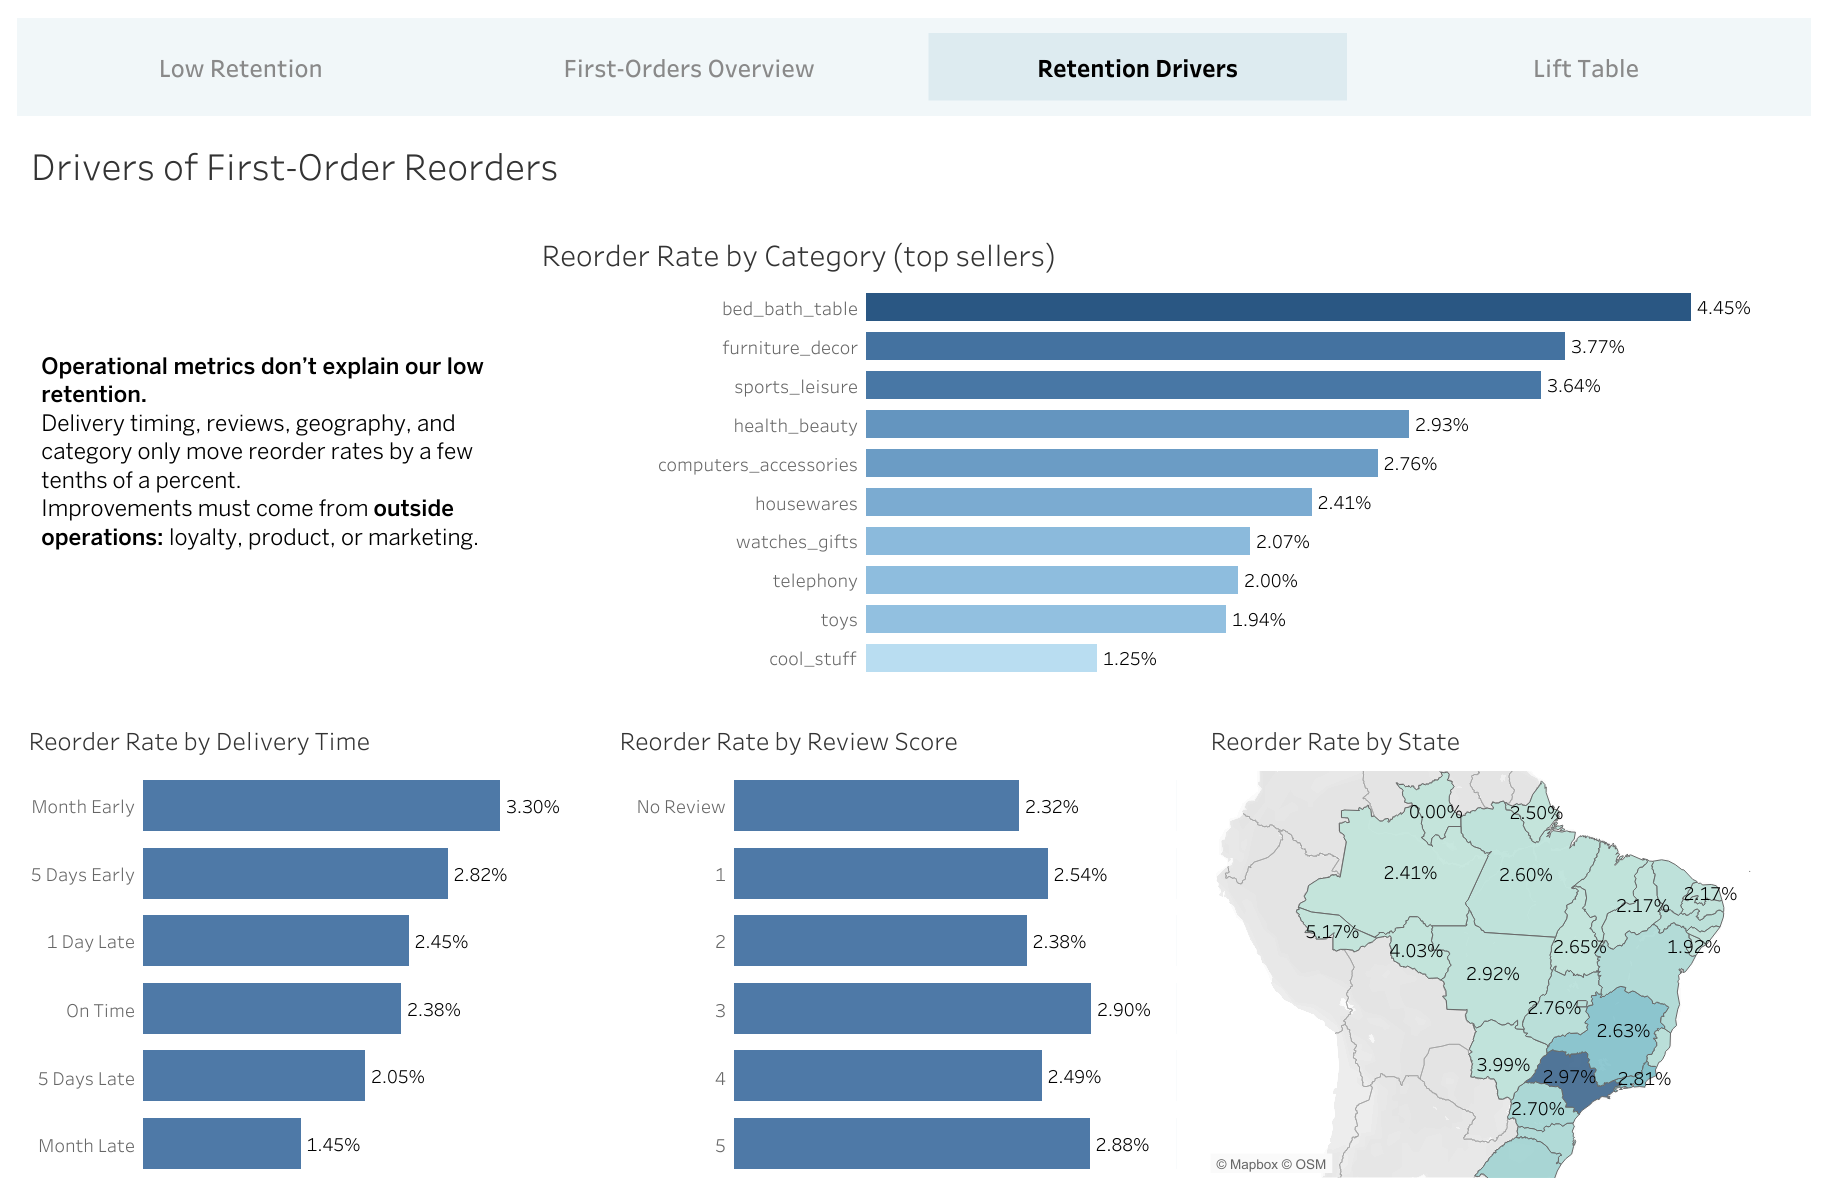

Layout of this report page (visuals, bound fields, positions):
{"tool":"tableau","page":{"name":"Drivers of First-Order Reorders","canvas":[1000,1000],"units":"permille","ordinal":0},"visuals":[{"type":"dashboard-object","box":[9.3,15,246.3,82]},{"type":"dashboard-object","box":[255.6,15,246.3,82]},{"type":"dashboard-object","box":[501.9,15,245.6,82]},{"type":"dashboard-object","box":[747.5,15,245.6,82]},{"type":"title","box":[15,98.9,595.8,75.6]},{"type":"text","box":[8.3,182.2,213.8,386.7]},{"type":"worksheet","title":"Reorder Rate by Category (top sellers)","mark":"Automatic","rows":["first_order_category"],"cols":["Calculation_690176653128122368"],"box":[222.2,182.2,767,386.7]},{"type":"worksheet","title":"Reorder Rate by Delivery Time","mark":"Automatic","rows":["On Time vs Late Delivery (copy)_690176653248196612"],"cols":["Calculation_690176653128122368"],"box":[4.2,582.2,338,411.1]},{"type":"worksheet","title":"Reorder Rate by Review Score","mark":"Bar","rows":["first_order_review_score"],"cols":["Calculation_690176653128122368"],"box":[342.2,582.2,325.6,411.1]},{"type":"worksheet","title":"Reorder Rate by State","mark":"Multipolygon","box":[667.8,582.2,325.6,411.1]}]}

Visuals, with their boxes on the dashboard's canvas, which has no fixed pixel size, in thousandths of its width and height (x1, y1, x2, y2). These are canvas units, not pixel positions in the 1821x1199 screenshot, which may show the page scaled, cropped or inside an application window:
dashboard-object: left=9, top=15, right=256, bottom=97
dashboard-object: left=256, top=15, right=502, bottom=97
dashboard-object: left=502, top=15, right=748, bottom=97
dashboard-object: left=748, top=15, right=993, bottom=97
title: left=15, top=99, right=611, bottom=174
text: left=8, top=182, right=222, bottom=569
"Reorder Rate by Category (top sellers)" worksheet: left=222, top=182, right=989, bottom=569
"Reorder Rate by Delivery Time" worksheet: left=4, top=582, right=342, bottom=993
"Reorder Rate by Review Score" worksheet (Bar marks): left=342, top=582, right=668, bottom=993
"Reorder Rate by State" worksheet (Multipolygon marks): left=668, top=582, right=993, bottom=993
